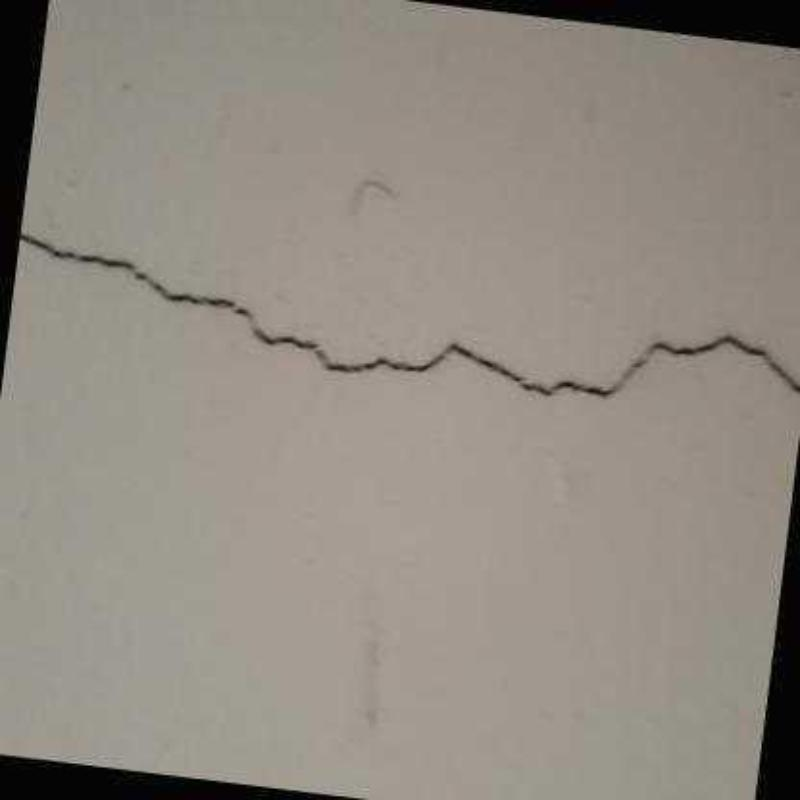pothole: (19, 232, 800, 396)
